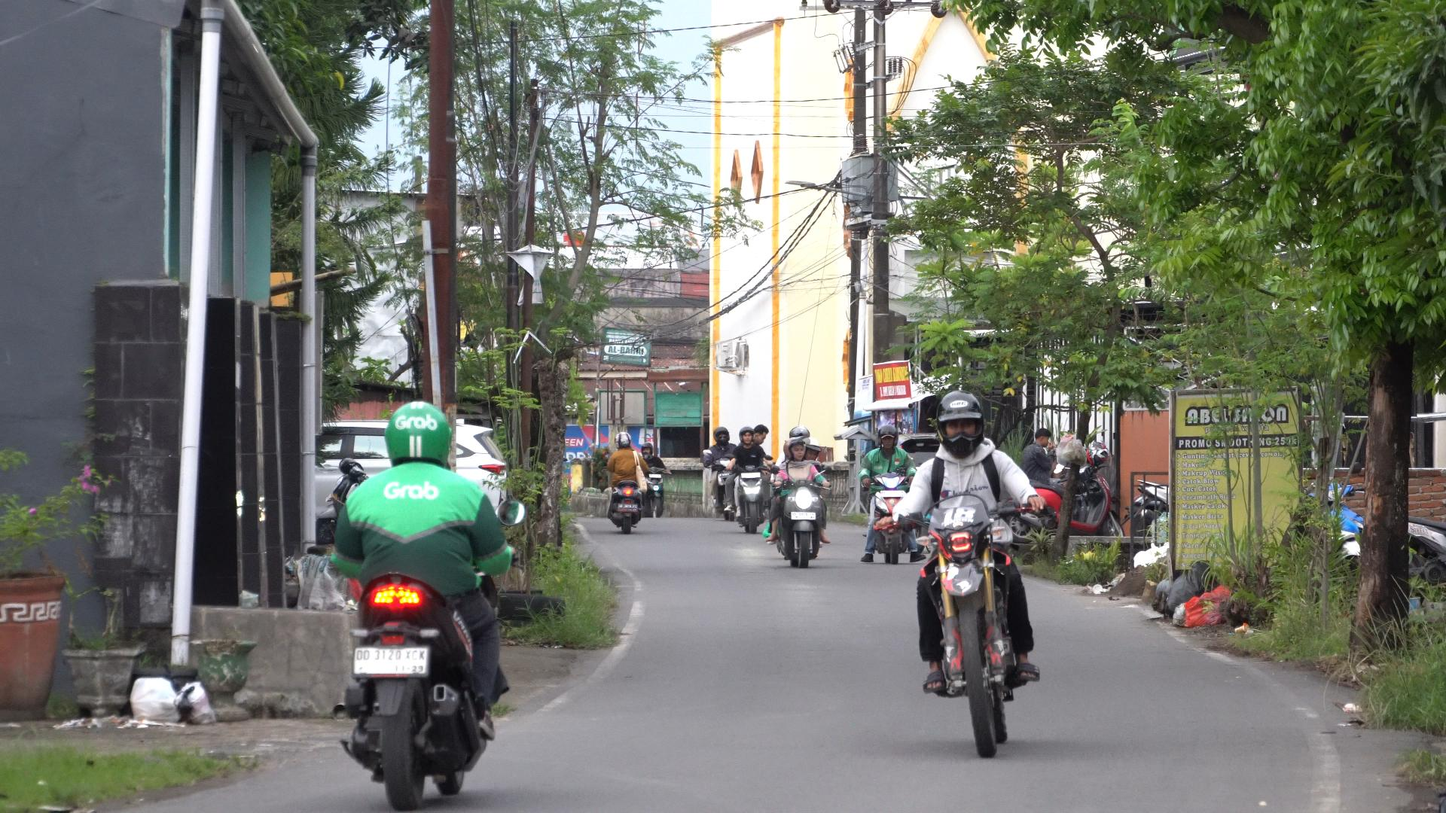number-plate: (789, 512, 815, 521), (743, 471, 761, 479)
